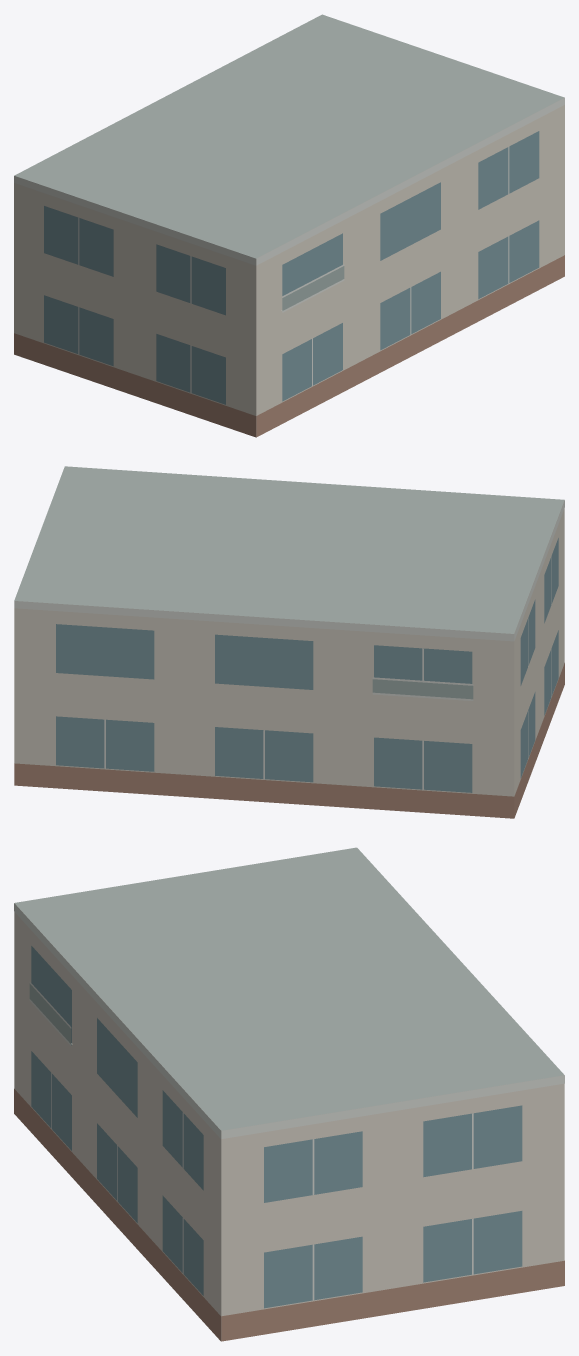
Rendered from survey-upis-32697641.glb.
3 renders of one model, top to bottom at view 1: azimuth 30°, elevation 25°; view 2: azimuth 150°, elevation 25°; view 3: azimuth 270°, elevation 25°, orthographic. The views are drawn at different scales.
Visible parts, largest first — view 1: survey-upis-32697641.tmp; view 2: survey-upis-32697641.tmp; view 3: survey-upis-32697641.tmp.
Part boxes in pixels (left/top/right/bottom): survey-upis-32697641.tmp: left=14, top=14, right=564, bottom=437; survey-upis-32697641.tmp: left=14, top=466, right=564, bottom=818; survey-upis-32697641.tmp: left=14, top=847, right=564, bottom=1341.
Bounding box in the file's own units: 17.61 × 6.1 × 14.46.
